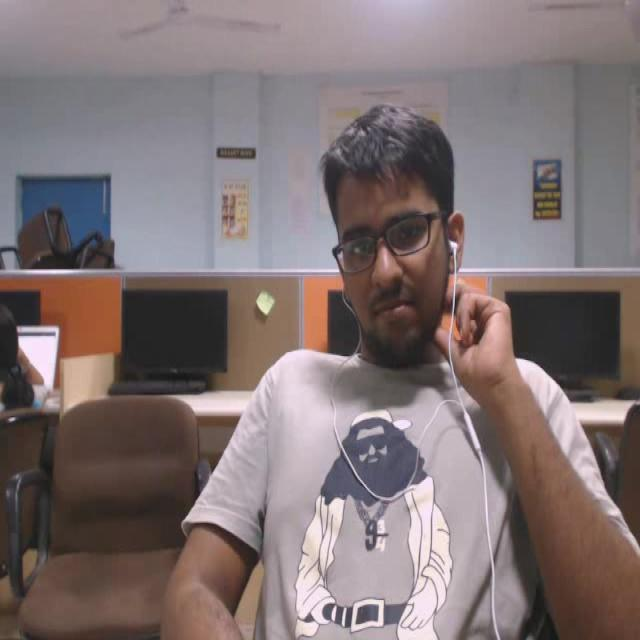Engaged: (296, 92, 523, 423)
